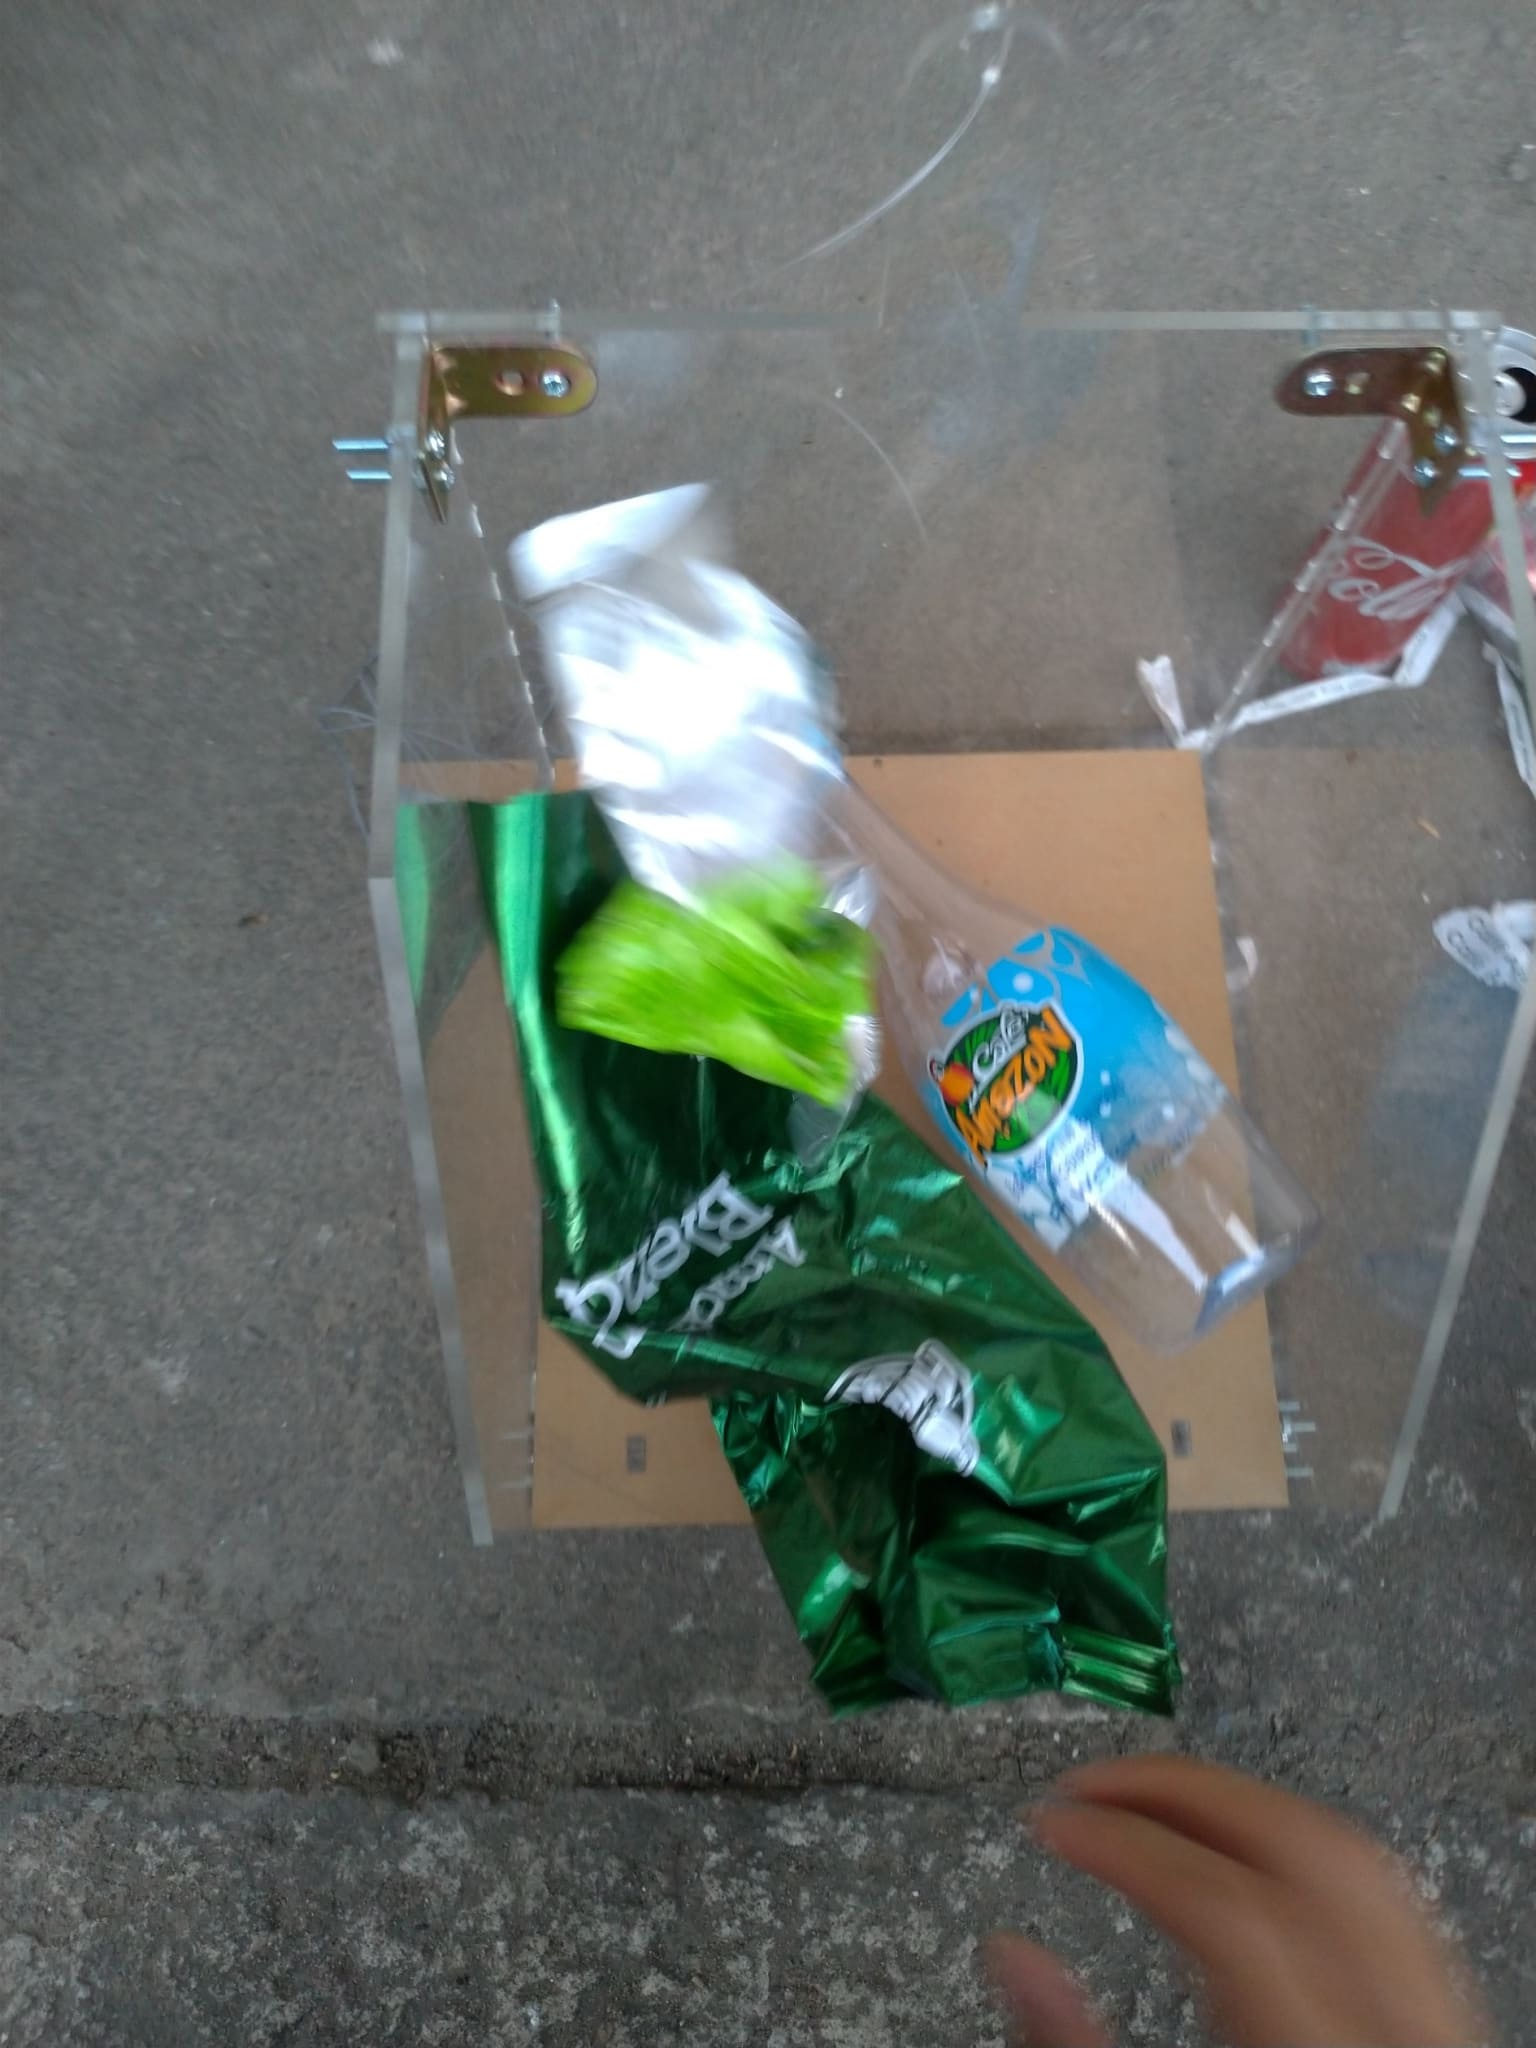AlCan: (1267, 310, 1536, 682)
Others: (466, 797, 1157, 1716), (516, 500, 866, 1090), (1137, 600, 1536, 755), (1405, 877, 1536, 1006)
PlasticBottle: (821, 768, 1321, 1338)
